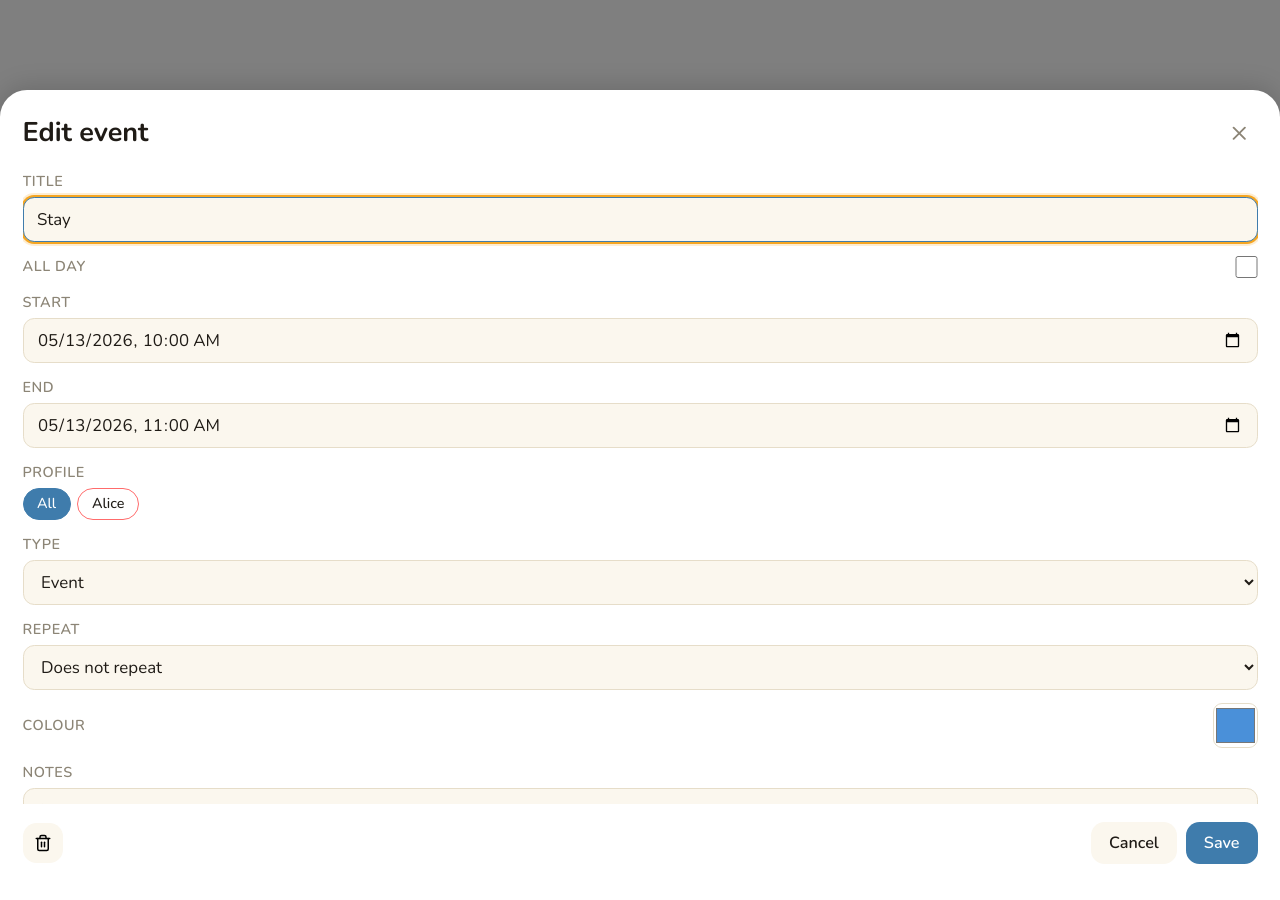
Test: EventModal — delete confirmation › can cancel the delete confirmation
Step 1. Click the button named "Delete event" → coordinates (43, 843), box [22,823,63,863]
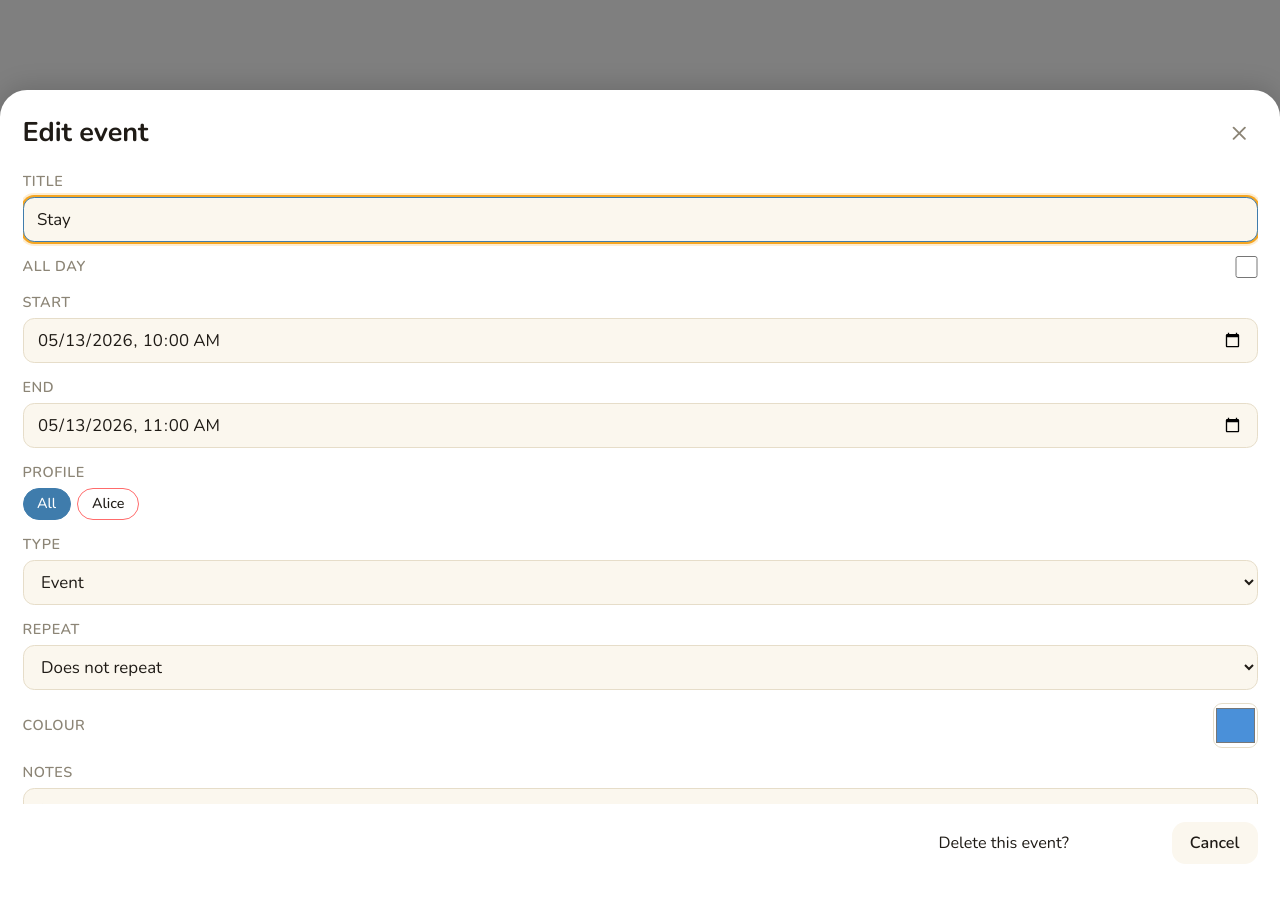
Step 2. Click the button "Cancel" → coordinates (1215, 843), box [1172,822,1258,864]
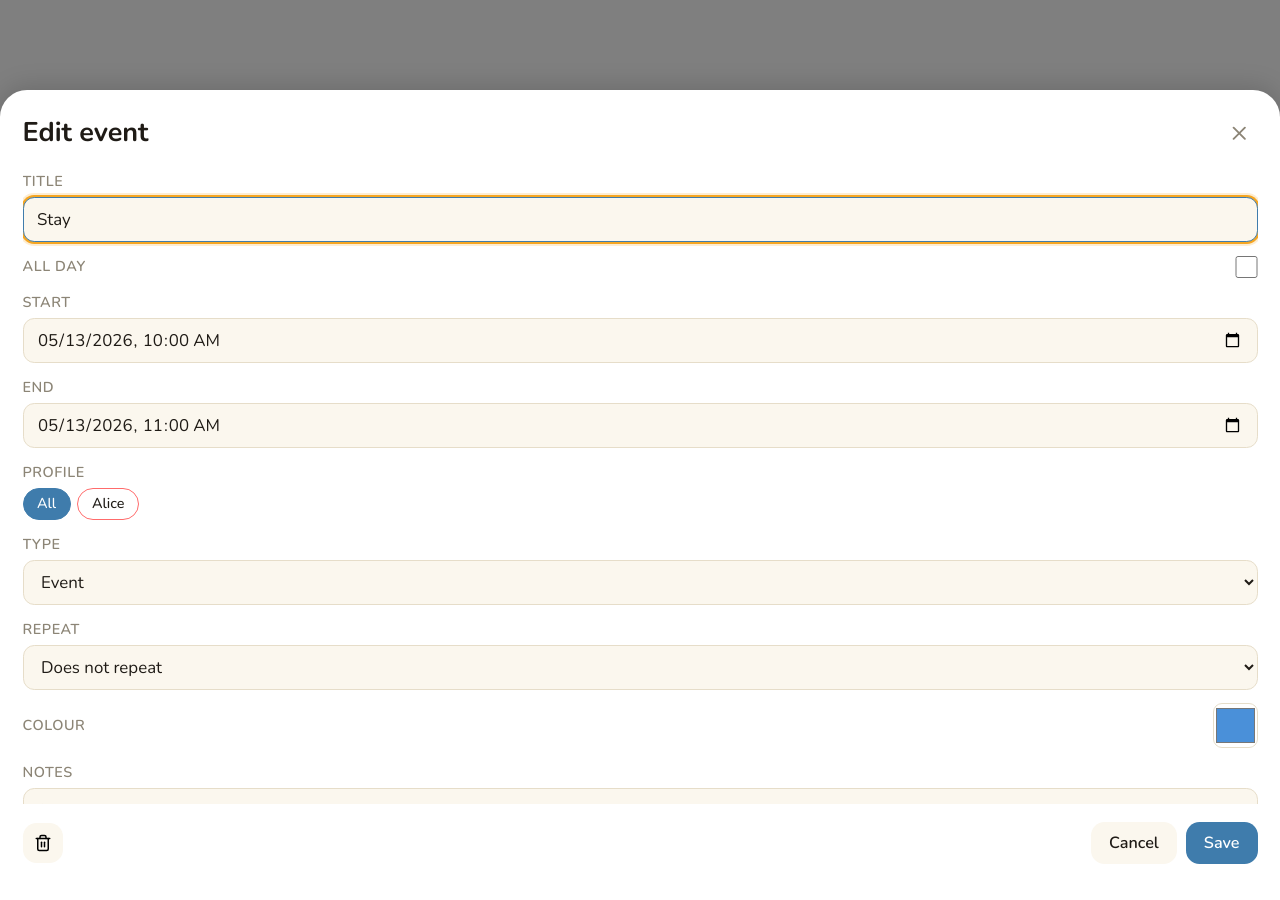
expect the text "Delete this event?" is gone: met
